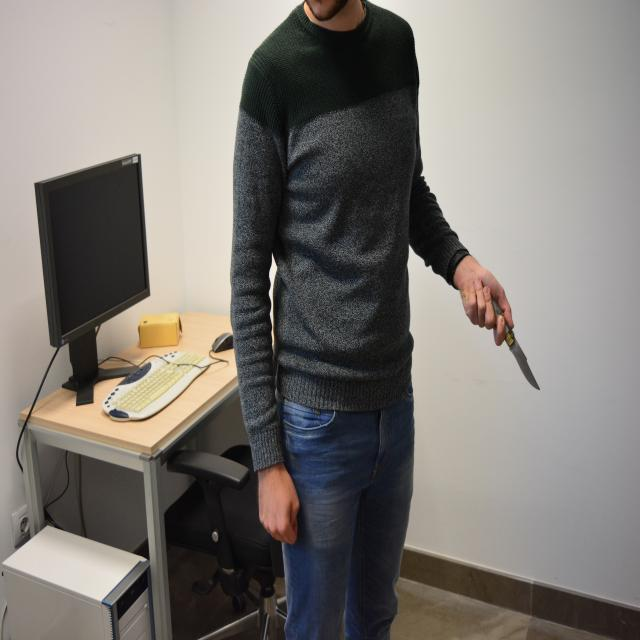knife: (492, 298, 545, 399)
